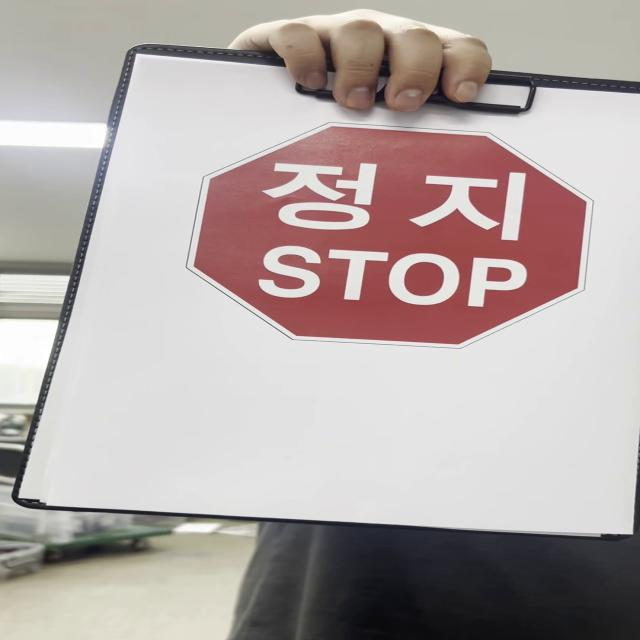stop: (187, 125, 602, 350)
